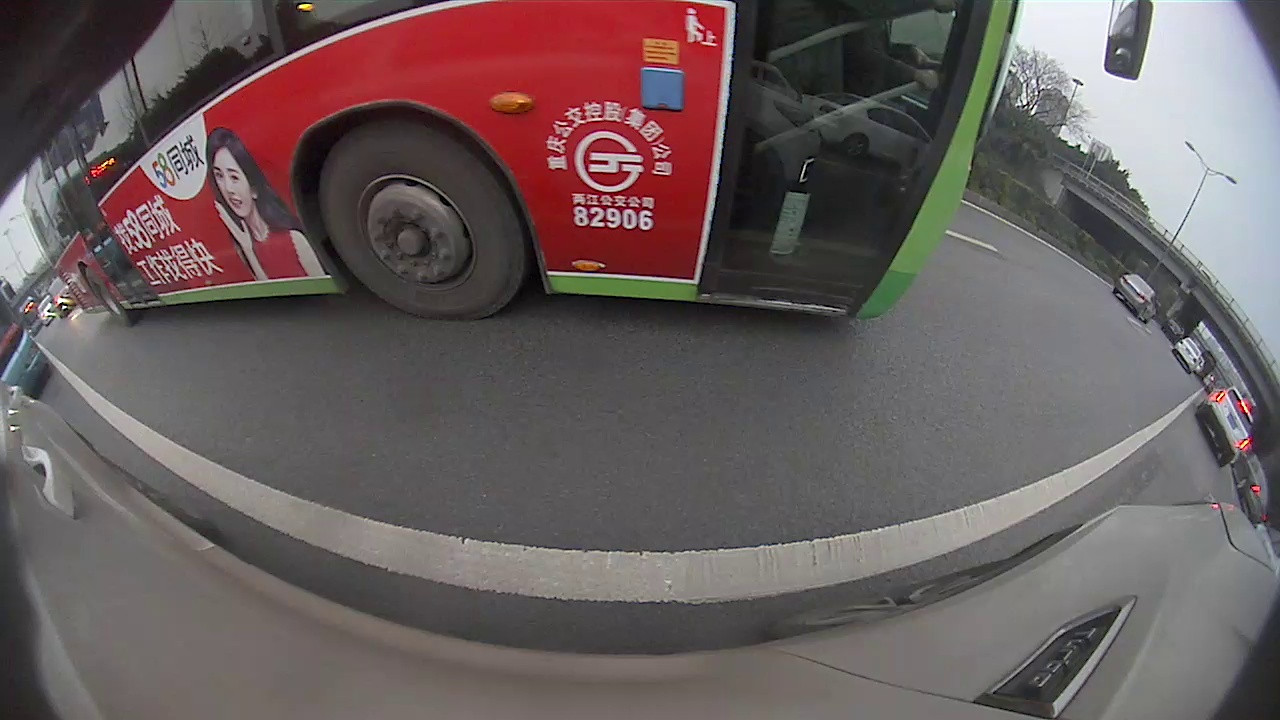bus: (18, 1, 1017, 329)
car: (1194, 382, 1259, 468), (1111, 273, 1160, 323), (1172, 336, 1205, 375)
front: (318, 119, 530, 325)
rear: (82, 266, 133, 324)
